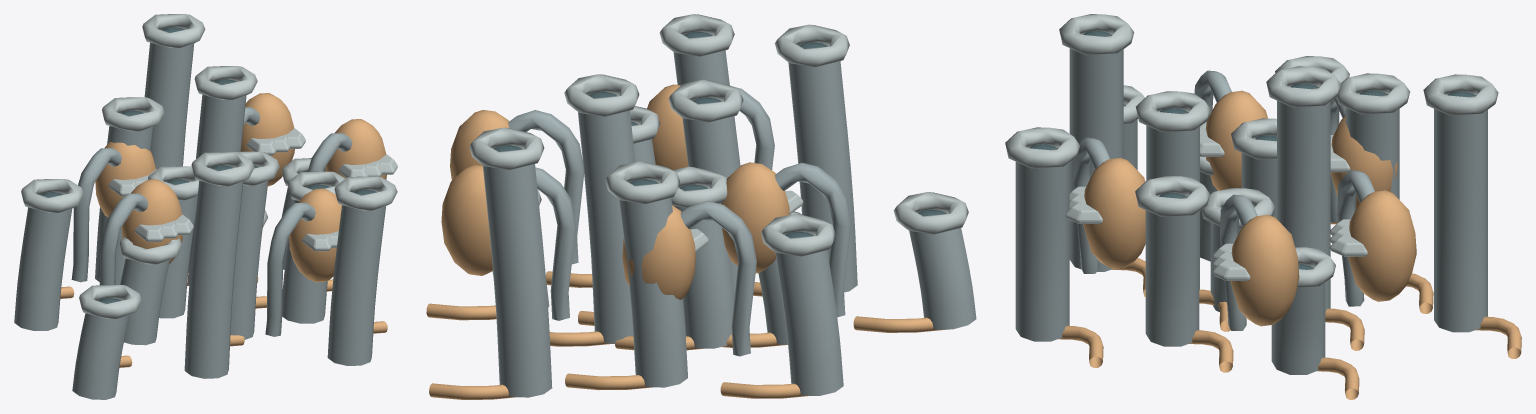
The model's file is bio_thermal_colony_18_far.glb.
The picture shows the model from 3 angles, left to right: view 1: azimuth 30°, elevation 25°; view 2: azimuth 150°, elevation 25°; view 3: azimuth 270°, elevation 25°; orthographic projection. The views are drawn at different scales.
Visible parts, largest first — view 1: Chimney biofilm.007, Chimney biofilm.010, Chimney biofilm.009, Chimney biofilm.011, Chimney biofilm.002, Chimney biofilm.012, Pendant spore capsule.002, Chimney biofilm.004, Chimney biofilm.003, Arched fruit stem.002, Arched fruit stem.001, Pendant spore capsule.004 (+25 smaller); view 2: Chimney biofilm.011, Chimney biofilm.003, Chimney biofilm.006, Chimney biofilm.007, Chimney biofilm.009, Chimney biofilm.012, Chimney biofilm.001, Pendant spore capsule.003, Pendant spore capsule.004, Arched fruit stem.001, Pendant spore capsule.001, Arched fruit stem.004 (+25 smaller); view 3: Chimney biofilm.011, Chimney biofilm.010, Chimney biofilm.003, Chimney biofilm.005, Chimney biofilm.007, Pendant spore capsule.003, Pendant spore capsule, Pendant spore capsule.002, Chimney biofilm.008, Pendant spore capsule.004, Chimney biofilm.002, Chimney biofilm.006 (+33 smaller).
Boxes of the visible parts, x1=… form: Chimney biofilm.007: x1=184, y1=181, x2=243, y2=378; Chimney biofilm.010: x1=327, y1=205, x2=385, y2=365; Chimney biofilm.009: x1=14, y1=207, x2=71, y2=330; Chimney biofilm.011: x1=144, y1=42, x2=194, y2=169; Chimney biofilm.002: x1=230, y1=181, x2=268, y2=339; Chimney biofilm.012: x1=72, y1=313, x2=129, y2=399; Pendant spore capsule.002: x1=289, y1=188, x2=341, y2=282; Chimney biofilm.004: x1=120, y1=258, x2=169, y2=345; Chimney biofilm.003: x1=187, y1=94, x2=246, y2=285; Arched fruit stem.002: x1=265, y1=202, x2=315, y2=336; Arched fruit stem.001: x1=71, y1=148, x2=121, y2=282; Pendant spore capsule.004: x1=121, y1=179, x2=182, y2=264; Chimney biofilm.011: x1=483, y1=164, x2=552, y2=397; Chimney biofilm.003: x1=578, y1=110, x2=635, y2=343; Chimney biofilm.006: x1=619, y1=198, x2=687, y2=387; Chimney biofilm.007: x1=788, y1=45, x2=857, y2=292; Chimney biofilm.009: x1=775, y1=234, x2=843, y2=395; Chimney biofilm.012: x1=909, y1=212, x2=976, y2=329; Chimney biofilm.001: x1=674, y1=187, x2=734, y2=348; Pendant spore capsule.003: x1=441, y1=165, x2=492, y2=275; Pendant spore capsule.004: x1=721, y1=162, x2=790, y2=273; Arched fruit stem.001: x1=680, y1=200, x2=756, y2=356; Pendant spore capsule.001: x1=622, y1=205, x2=695, y2=299; Arched fruit stem.004: x1=775, y1=162, x2=851, y2=317; Chimney biofilm.011: x1=1434, y1=95, x2=1487, y2=332; Chimney biofilm.010: x1=1015, y1=148, x2=1069, y2=341; Chimney biofilm.003: x1=1277, y1=87, x2=1330, y2=312; Chimney biofilm.005: x1=1145, y1=196, x2=1199, y2=346; Chimney biofilm.007: x1=1069, y1=34, x2=1123, y2=271; Pendant spore capsule.003: x1=1348, y1=190, x2=1416, y2=301; Pendant spore capsule: x1=1230, y1=215, x2=1299, y2=326; Pendant spore capsule.002: x1=1083, y1=157, x2=1145, y2=269; Chimney biofilm.008: x1=1271, y1=267, x2=1325, y2=374; Pendant spore capsule.004: x1=1206, y1=90, x2=1267, y2=190; Chimney biofilm.002: x1=1146, y1=111, x2=1199, y2=289; Chimney biofilm.006: x1=1345, y1=94, x2=1399, y2=199.
Size of the model in its own units: 1.9 by 1.03 by 1.92.
